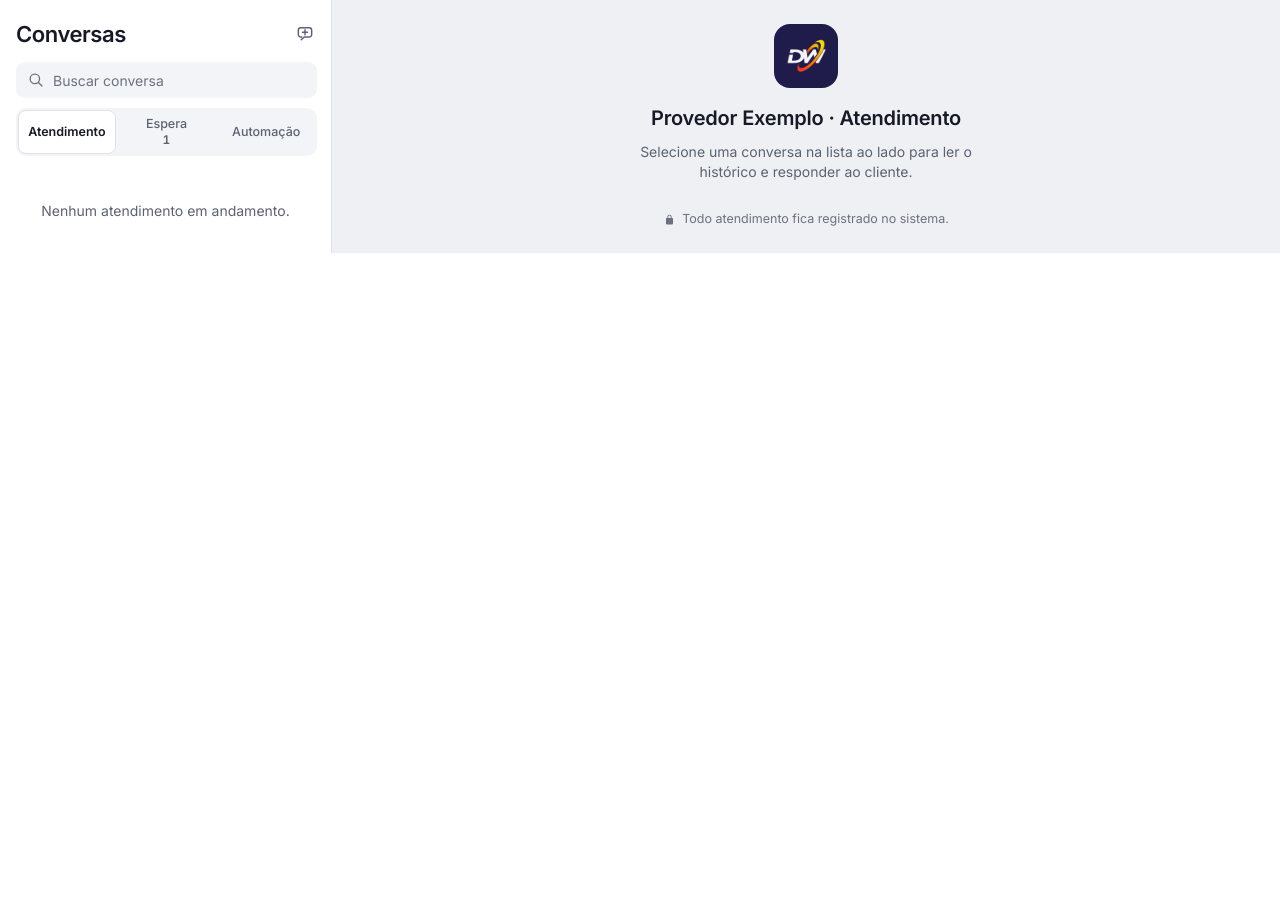
Test: DashboardPage › "Finalizar sem motivo" que falha mostra o erro na própria confirmação, que continua aberta
This screenshot has width=1280, height=900.
Click the tab "Espera 1". click: (167, 132)
box: 118,110 -> 215,154
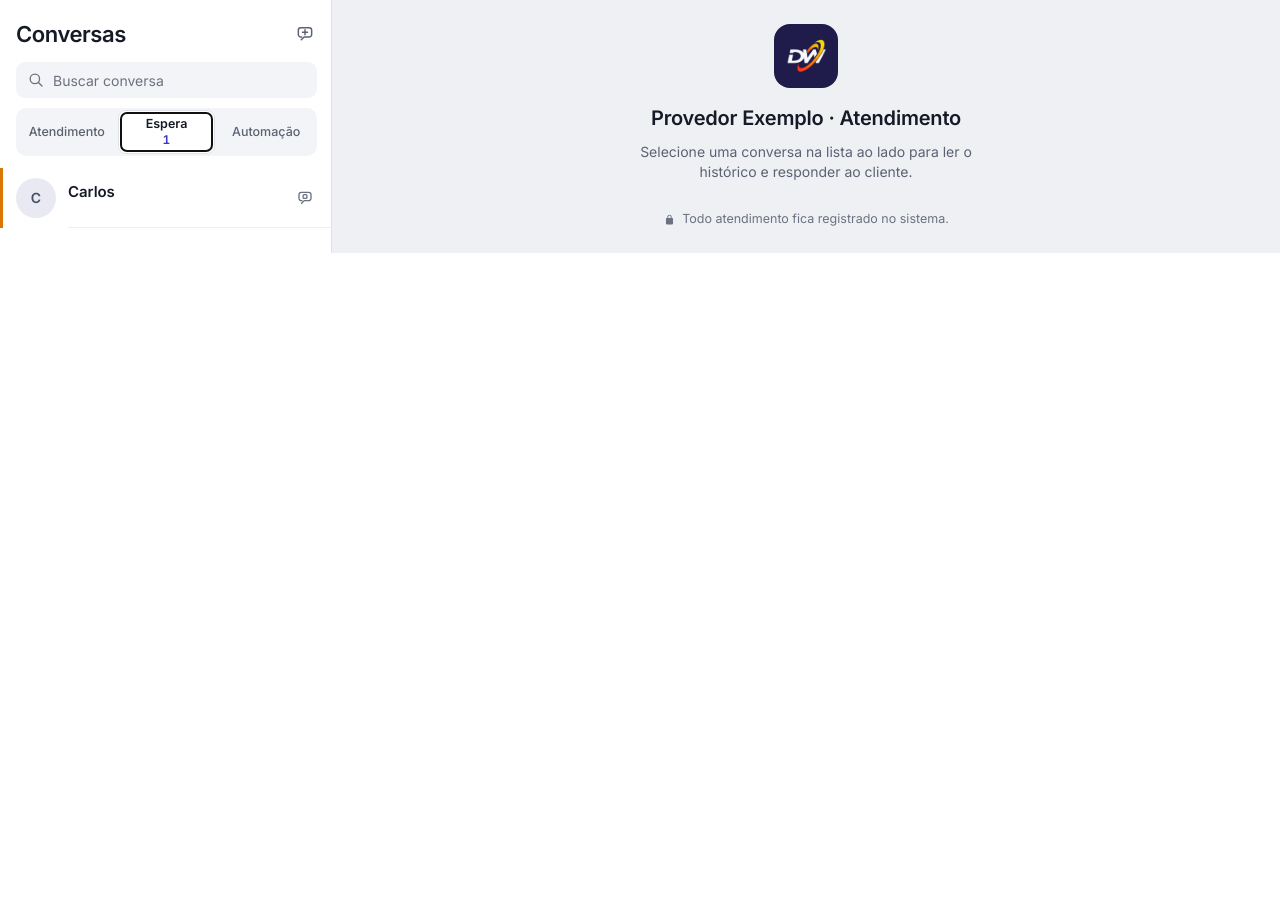
Click the button named "finalizar". click: (305, 198)
box: 289,182 -> 321,214
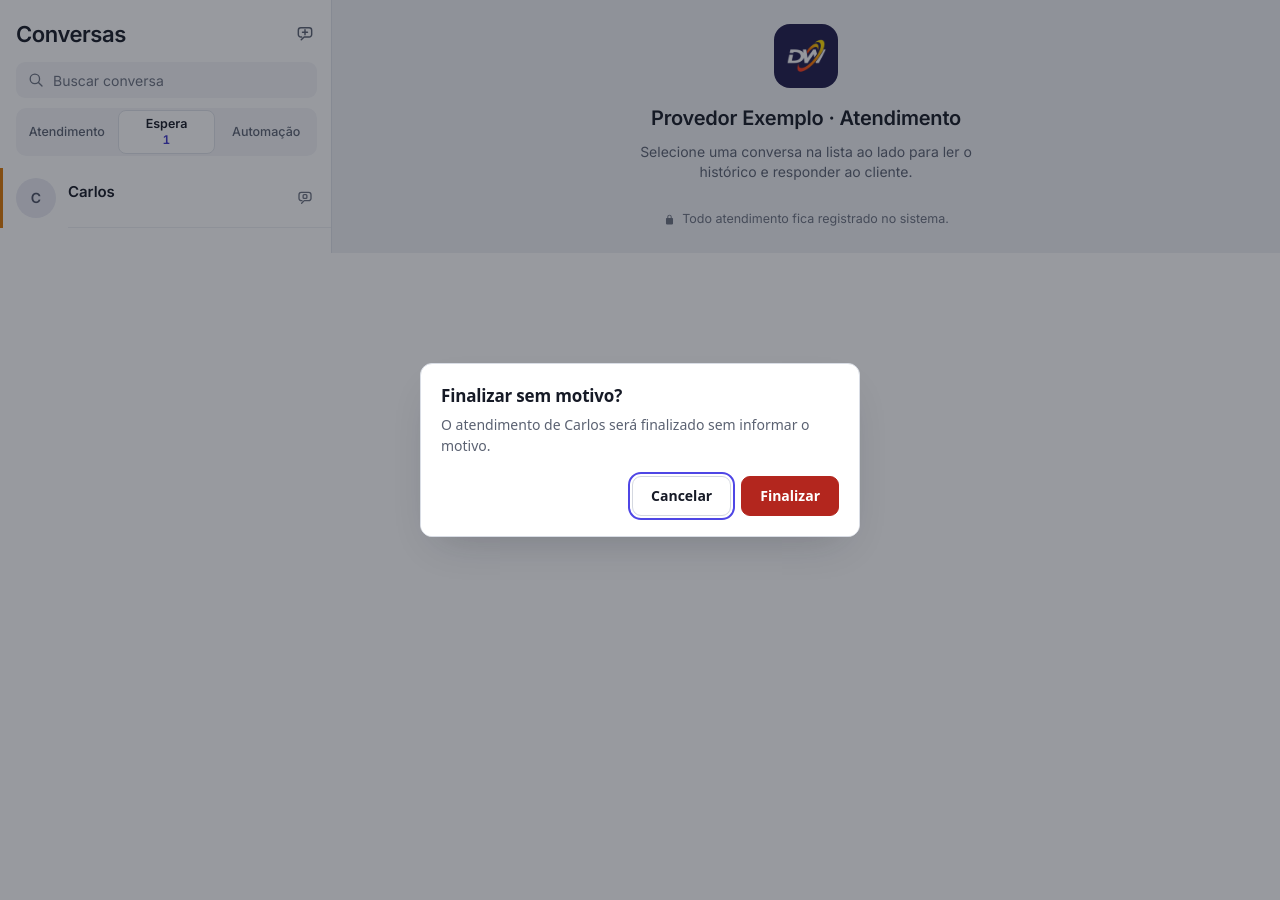
Expected: the dialog "Finalizar sem motivo?" shows "O atendimento de Carlos será finalizado sem informar o motivo.", 441,415 -> 810,455
Click the button "Finalizar". click: (790, 496)
box: 741,476 -> 839,516
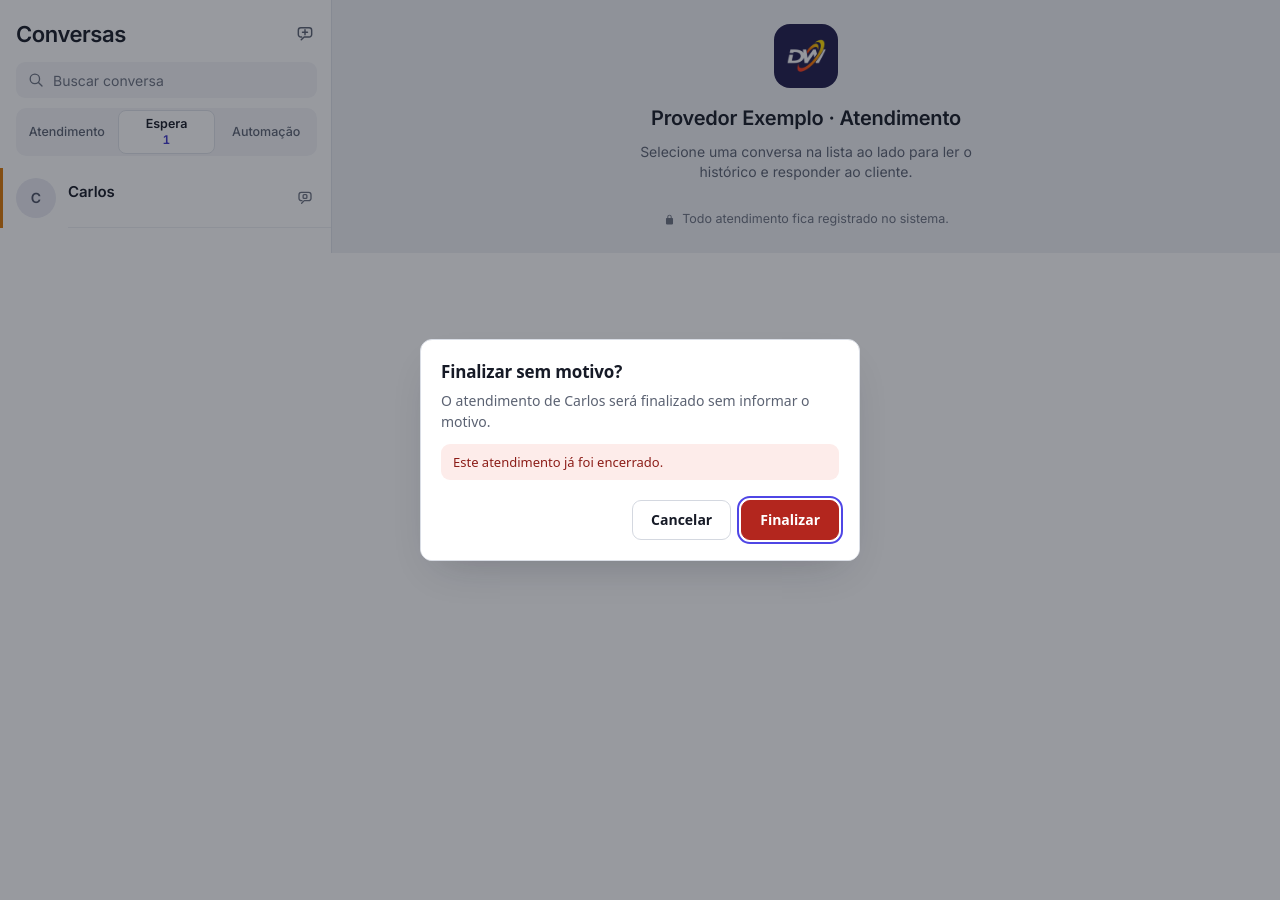
Expected: the message reads "Este atendimento já foi encerrado.", 453,453 -> 663,471
Click the button "Cancelar". click: (682, 520)
box: 632,500 -> 731,540
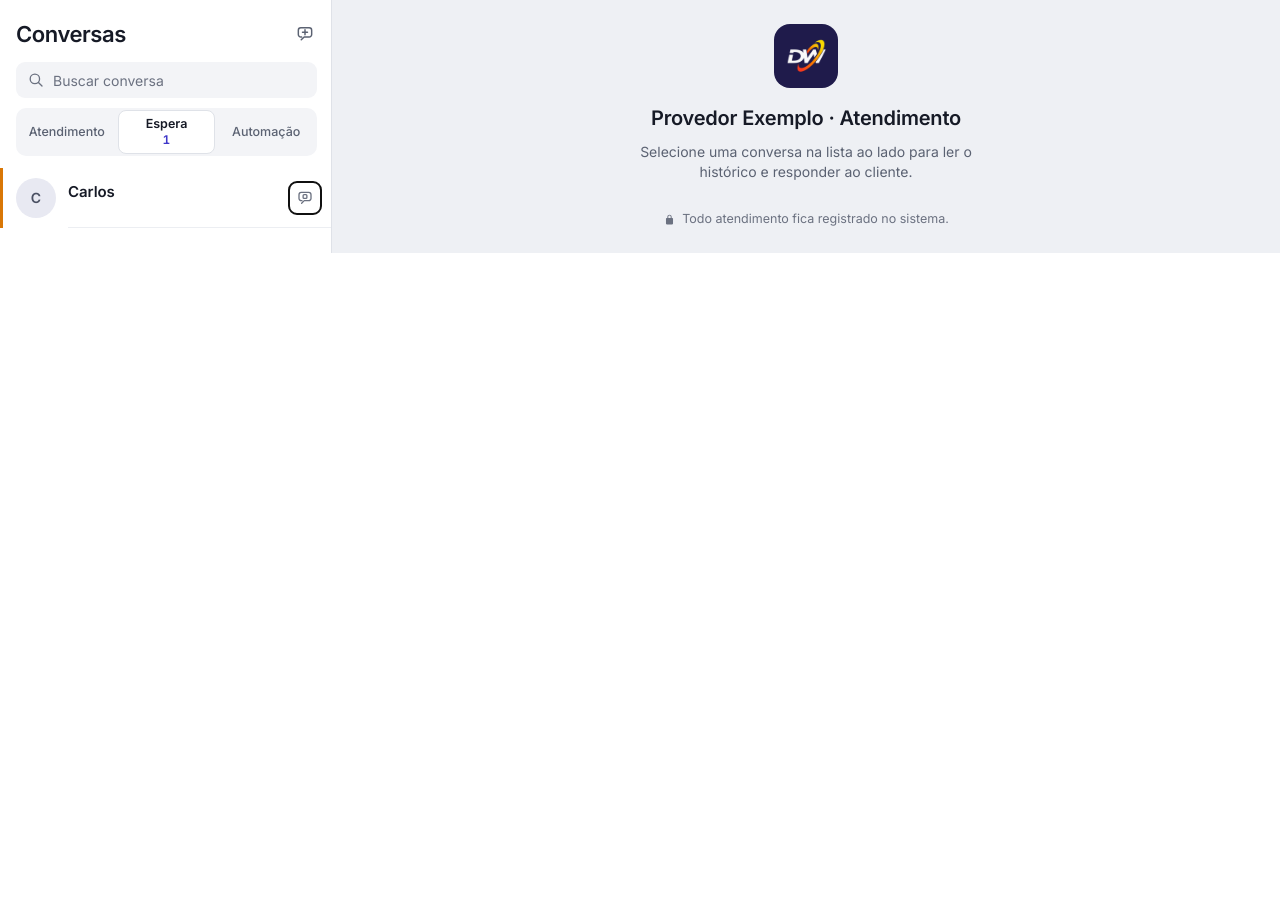
Expected: the dialog is gone
